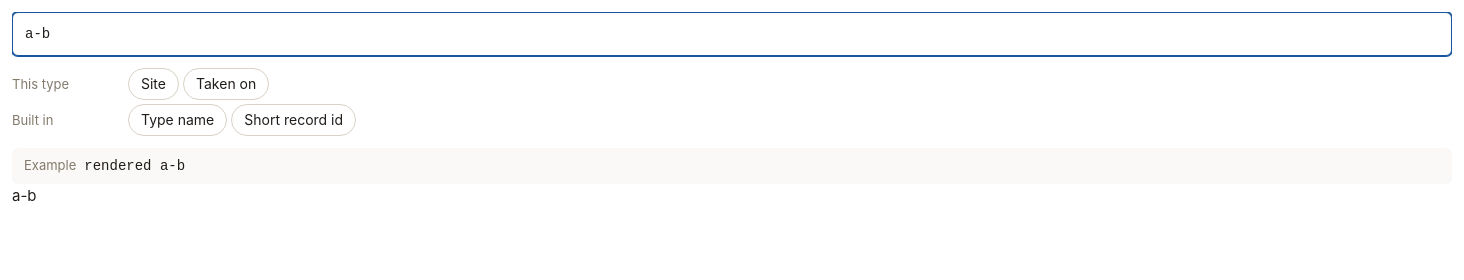
Test case: TemplateBuilder › inserts at the cursor, not the end
Click the button "Site" at [154, 84], box [128,68,179,100]
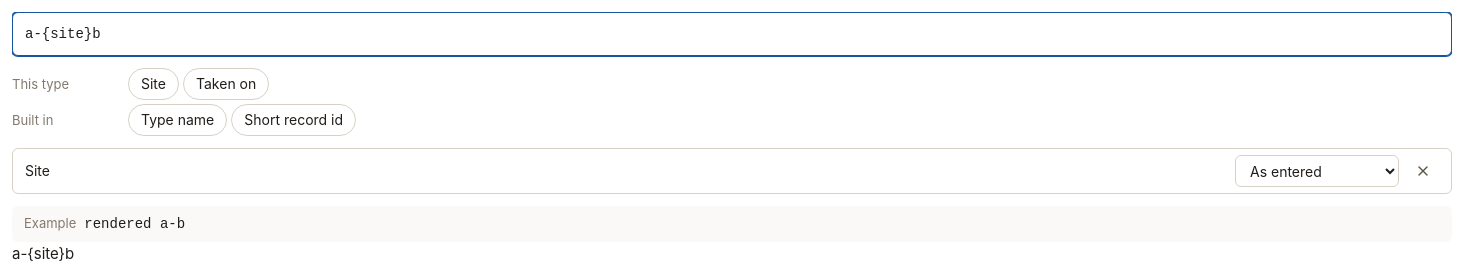
Now the text with test id "value" reads "a-{site}b", box [12,244,74,263]
